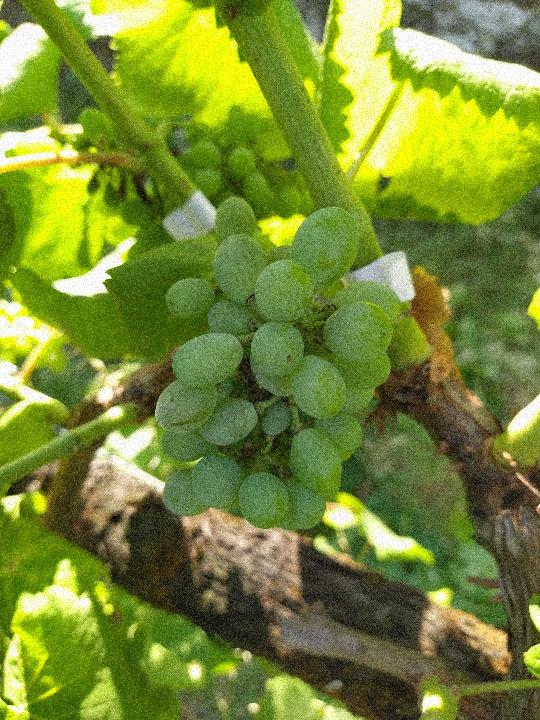grape: (152, 193, 407, 540)
